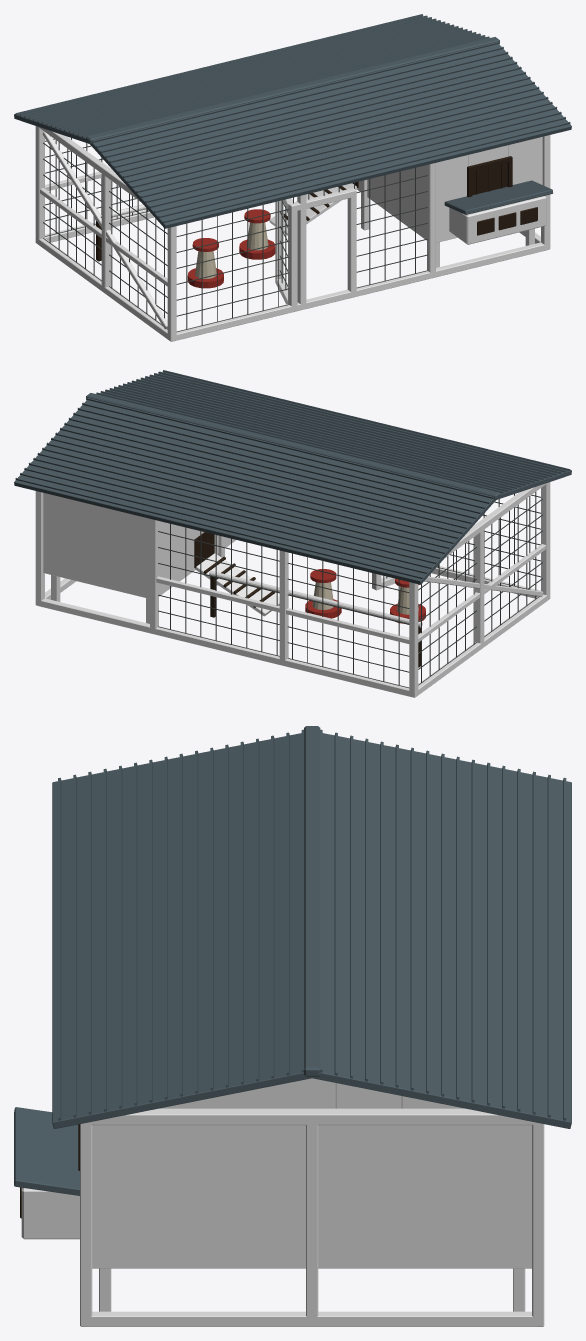
The model's file is WalkInChickenCoop.fbx.
3 views of the same model, one above another, from view 1: azimuth 30°, elevation 25°; view 2: azimuth 150°, elevation 25°; view 3: azimuth 270°, elevation 25° (orthographic). The views are drawn at different scales.
Visible parts, largest first — view 1: Roof_FrontSlope, Roof_BackSlope, ChickenWire_AllPanels, Beam_Base_Front, Roof_RidgeCap, HenHouse_Partition_Front, ExternalNestBox, HenHouse_FrontWall_Left, ExternalNestBox_Lid, Beam_Base_Left, Brace_LeftWall, HenHouse_FrontWall_Right (+54 smaller); view 2: Roof_BackSlope, ChickenWire_AllPanels, HenHouse_BackWall, Roof_FrontSlope, Beam_Base_Back, Roof_RidgeCap, HenHouse_Partition_Back, Rail_Middle_BackRun, Beam_Base_Left, ChickenRamp, RoofCorrugation_Back_12, RoofCorrugation_Back_14 (+44 smaller); view 3: Roof_FrontSlope, Roof_BackSlope, HenHouse_RightWall, Beam_Base_Right, Beam_Top_Right, Roof_RidgeCap, ExternalNestBox_Lid, HenHouse_Floor, HenHouse_Partition_Front, ExternalNestBox, Post_Right_Middle, Post_04_Back (+36 smaller).
Boxes of the visible parts, x1,y1,x2,y2 form: Roof_FrontSlope: [90, 44, 571, 228]; Roof_BackSlope: [14, 16, 485, 143]; ChickenWire_AllPanels: [43, 136, 427, 331]; Beam_Base_Front: [174, 242, 546, 341]; Roof_RidgeCap: [86, 37, 499, 144]; HenHouse_Partition_Front: [358, 165, 426, 237]; ExternalNestBox: [449, 196, 546, 244]; HenHouse_FrontWall_Left: [436, 155, 468, 239]; ExternalNestBox_Lid: [444, 180, 552, 214]; Beam_Base_Left: [37, 238, 168, 339]; Brace_LeftWall: [42, 131, 167, 329]; HenHouse_FrontWall_Right: [508, 137, 542, 184]; Roof_BackSlope: [14, 400, 495, 584]; ChickenWire_AllPanels: [158, 492, 542, 687]; HenHouse_BackWall: [43, 493, 149, 595]; Roof_FrontSlope: [100, 372, 571, 499]; Beam_Base_Back: [39, 598, 411, 697]; Roof_RidgeCap: [86, 393, 499, 500]; HenHouse_Partition_Back: [159, 521, 194, 593]; Rail_Middle_BackRun: [156, 576, 409, 643]; Beam_Base_Left: [417, 594, 547, 695]; ChickenRamp: [195, 553, 279, 616]; RoofCorrugation_Back_12: [37, 452, 445, 553]; RoofCorrugation_Back_14: [28, 462, 436, 563]; Roof_FrontSlope: [52, 733, 312, 1128]; Roof_BackSlope: [312, 733, 571, 1128]; HenHouse_RightWall: [92, 1108, 531, 1262]; Beam_Base_Right: [87, 1311, 537, 1326]; Beam_Top_Right: [87, 1109, 537, 1125]; Roof_RidgeCap: [304, 726, 320, 1076]; ExternalNestBox_Lid: [14, 1107, 79, 1195]; HenHouse_Floor: [92, 1258, 531, 1268]; HenHouse_Partition_Front: [159, 1078, 335, 1108]; ExternalNestBox: [21, 1187, 79, 1239]; Post_Right_Middle: [306, 1110, 318, 1326]; Post_04_Back: [532, 1122, 544, 1326].
Bounding box in the file's own units: 9.34 × 3.45 × 6.42.
